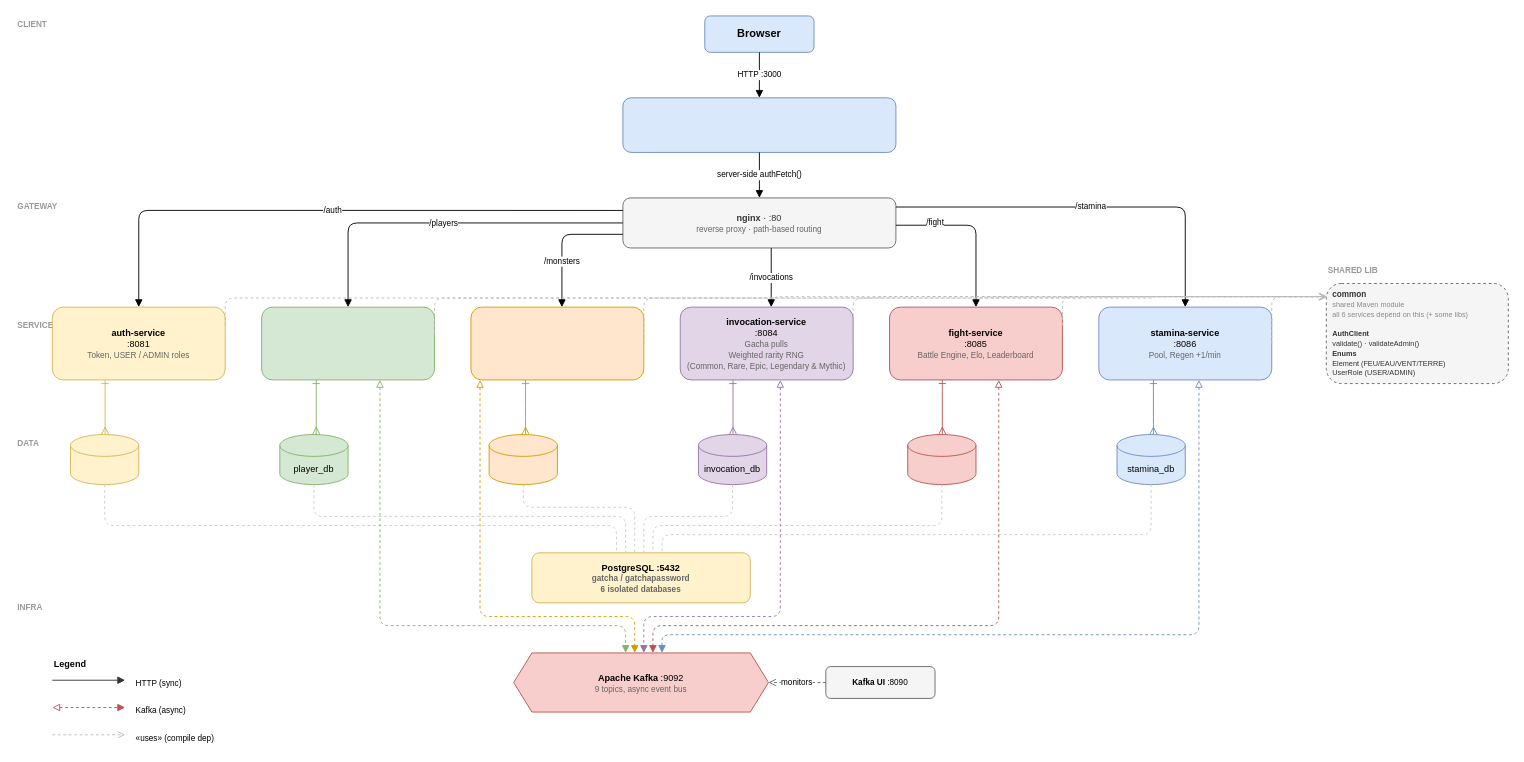
The diagram is 1524 pixels wide and 762 high, and some of its shapes have lost their labels. The centre of each missing label's shape, as x and y in pixels:
"auth_db" goes at point 104,459.
"fight_db" goes at point 941,459.
"monster-service :8083 Instances, Stats, Skill upgrades" goes at point 557,343.
"monster_db" goes at point 522,459.
"Next.js Frontend nintcha-front · :3000 NextJS 16.1.6" goes at point 759,124.
"player-service :8082 Profiles, Inventory, Teams, Player XP" goes at point 348,343.
